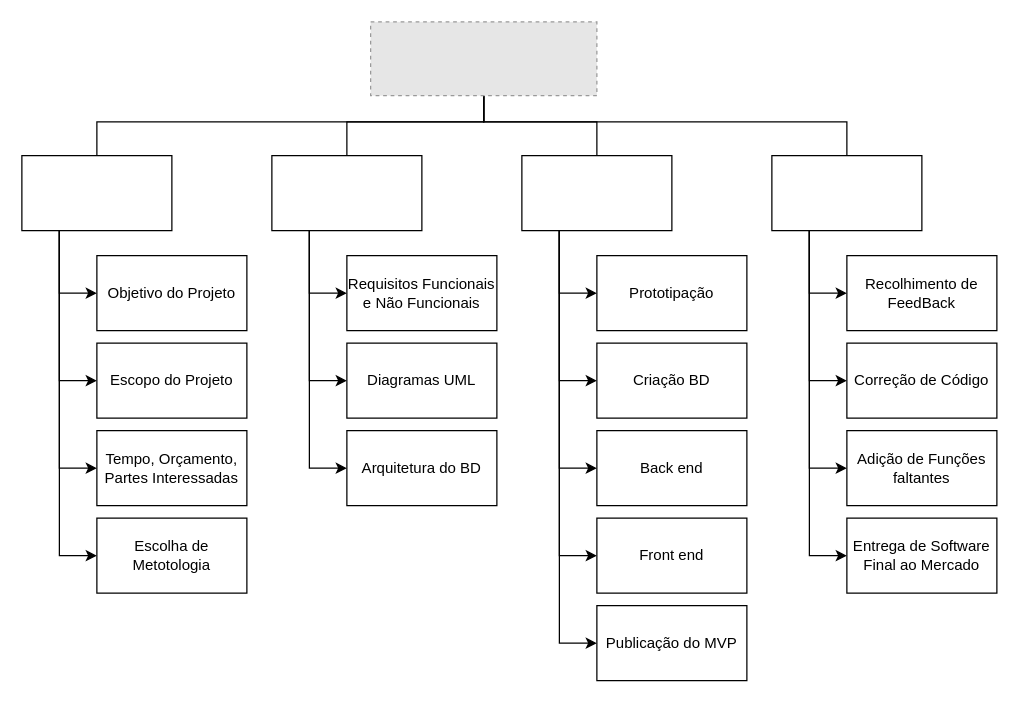
Some shapes in this 1019 by 703 pixel diagram are drawn without their labels. Grey dashed boxes stand in for pictures. The shapes that lost their labels are listed below. From the top down, each one's centre as x and y in pixels, then its label:
the point at 96,192: Plano do Projeto
the point at 346,192: Estrutura do Projeto
the point at 596,192: MVP (Produto Mínimo Viável)
the point at 846,192: Software Final
